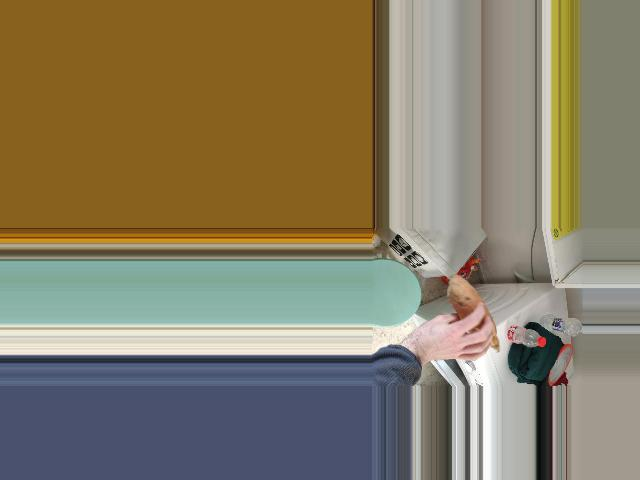sweet_potato: (446, 278, 496, 355)
